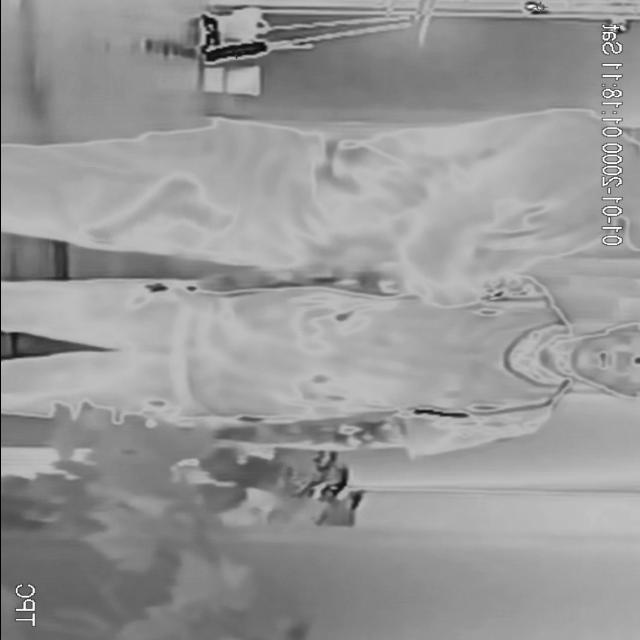Weapon: (78, 170, 236, 250)
